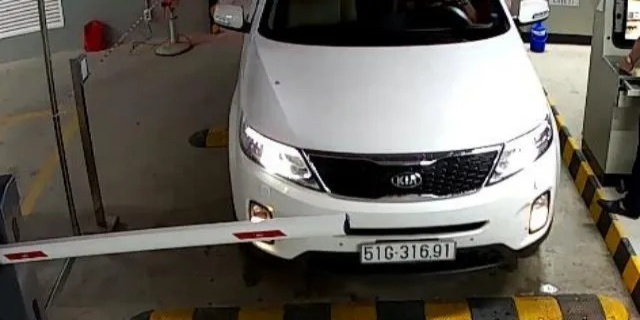bien_so: (363, 242, 455, 261)
